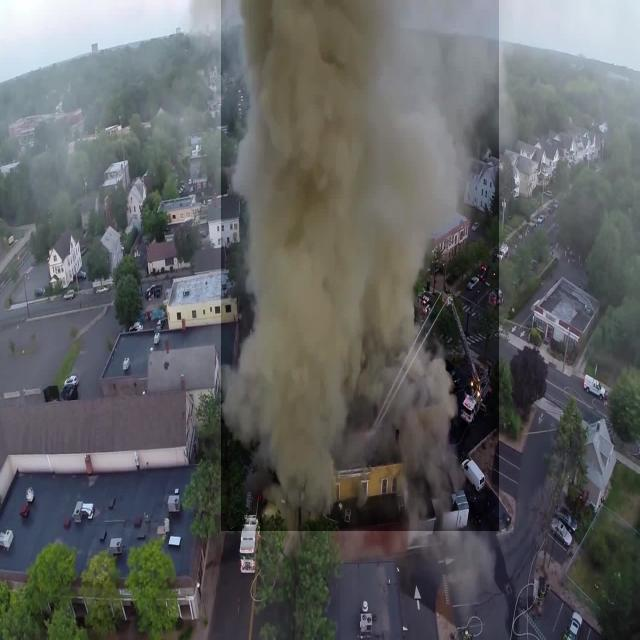Smoke: (221, 0, 499, 531)
